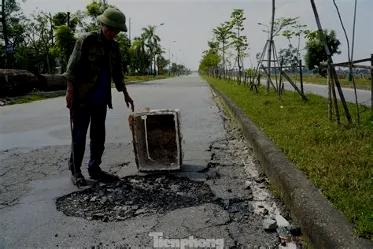ROAD_OBSTACLE: (55, 165, 220, 222), (128, 104, 182, 168), (210, 135, 260, 185)
